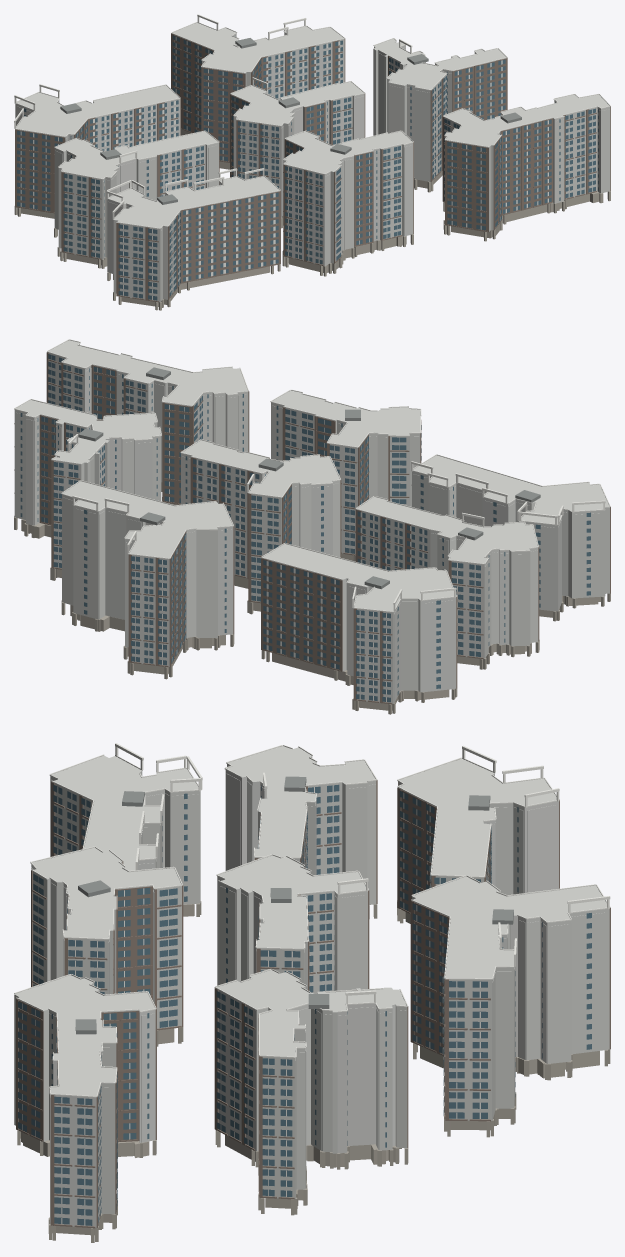
Rendered from representative-a10023482.glb.
3 renders of one model, top to bottom at view 1: azimuth 30°, elevation 25°; view 2: azimuth 150°, elevation 25°; view 3: azimuth 270°, elevation 25°, orthographic. The views are drawn at different scales.
Visible parts, largest first — view 1: A10023482_wall001, A10023482_accent001, A10023482_glass001, A10023482_trim001, A10023482_base001, A10023482_roof001; view 2: A10023482_wall001, A10023482_glass001, A10023482_accent001, A10023482_trim001, A10023482_base001, A10023482_roof001; view 3: A10023482_wall001, A10023482_glass001, A10023482_accent001, A10023482_trim001, A10023482_base001, A10023482_roof001.
Part boxes in pixels (x1,y1,x2,y2): A10023482_wall001: (15, 22, 610, 301); A10023482_accent001: (15, 33, 610, 302); A10023482_glass001: (17, 35, 607, 300); A10023482_trim001: (14, 14, 610, 299); A10023482_base001: (14, 129, 610, 310); A10023482_roof001: (60, 38, 521, 204); A10023482_wall001: (14, 340, 609, 703); A10023482_glass001: (20, 354, 590, 702); A10023482_accent001: (14, 340, 610, 704); A10023482_trim001: (14, 339, 610, 701); A10023482_base001: (14, 482, 610, 714); A10023482_roof001: (78, 367, 540, 589); A10023482_wall001: (14, 746, 609, 1227); A10023482_glass001: (18, 784, 591, 1225); A10023482_accent001: (14, 780, 610, 1228); A10023482_trim001: (14, 743, 610, 1225); A10023482_base001: (17, 900, 610, 1242); A10023482_roof001: (75, 776, 513, 1034).
Bounding box in the file's own units: 198 × 43.15 × 138.
